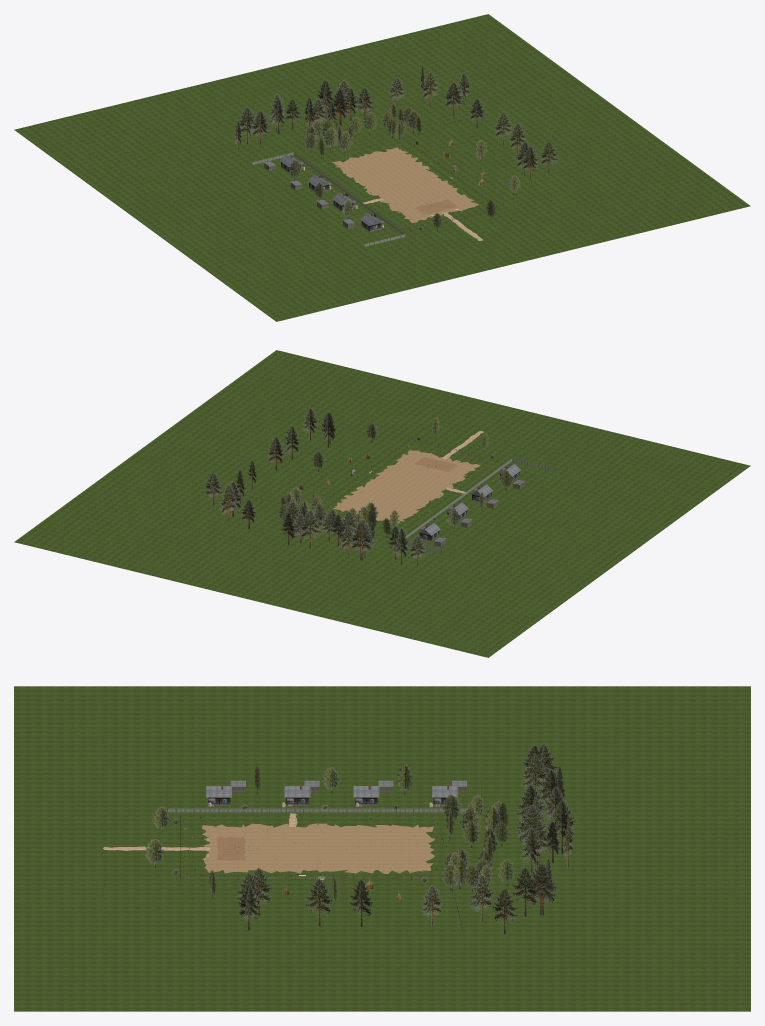
The model's file is village.glb.
3 views of the same model, one above another, from view 1: azimuth 30°, elevation 25°; view 2: azimuth 150°, elevation 25°; view 3: azimuth 270°, elevation 25° (orthographic). The views are drawn at different scales.
Parts seen in each view (by area): view 1: ground, court; view 2: ground, court; view 3: ground, court, cutout-picket0, cutout-pine15-0, cutout-pineR7-0, clay-dom, cutout-pineR0-1, cutout-pine13-0, cutout-pine16-1, cutout-pine17-1, cutout-pine13-1, cutout-pineR6-0 (+1 smaller).
Boxes of the visible parts, box(x1,y1,x2,y2) form: ground: box(14, 14, 750, 321); court: box(331, 147, 478, 222); ground: box(14, 350, 750, 657); court: box(333, 450, 480, 523); ground: box(14, 686, 750, 1011); court: box(202, 823, 434, 873); cutout-picket0: box(168, 808, 481, 812); cutout-pine15-0: box(511, 867, 538, 916); cutout-pineR7-0: box(304, 878, 333, 926); clay-dom: box(217, 837, 245, 860); cutout-pineR0-1: box(492, 888, 519, 934); cutout-pine13-0: box(527, 863, 557, 915); cutout-pine16-1: box(521, 755, 547, 795); cutout-pine17-1: box(546, 800, 576, 853); cutout-pine13-1: box(529, 863, 556, 915); cutout-pineR6-0: box(349, 879, 372, 926).
Bounding box in the file's own units: 240 × 18.87 × 230.
Materials: 19 (18 with a texture image).
